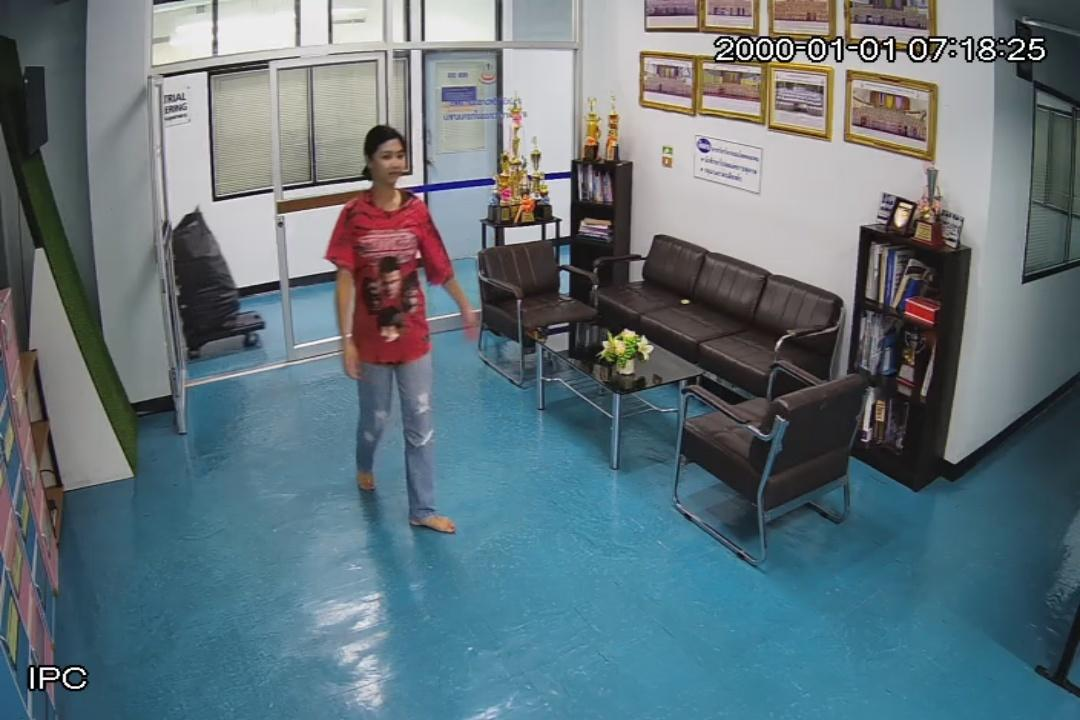normal: (332, 114, 480, 538)
